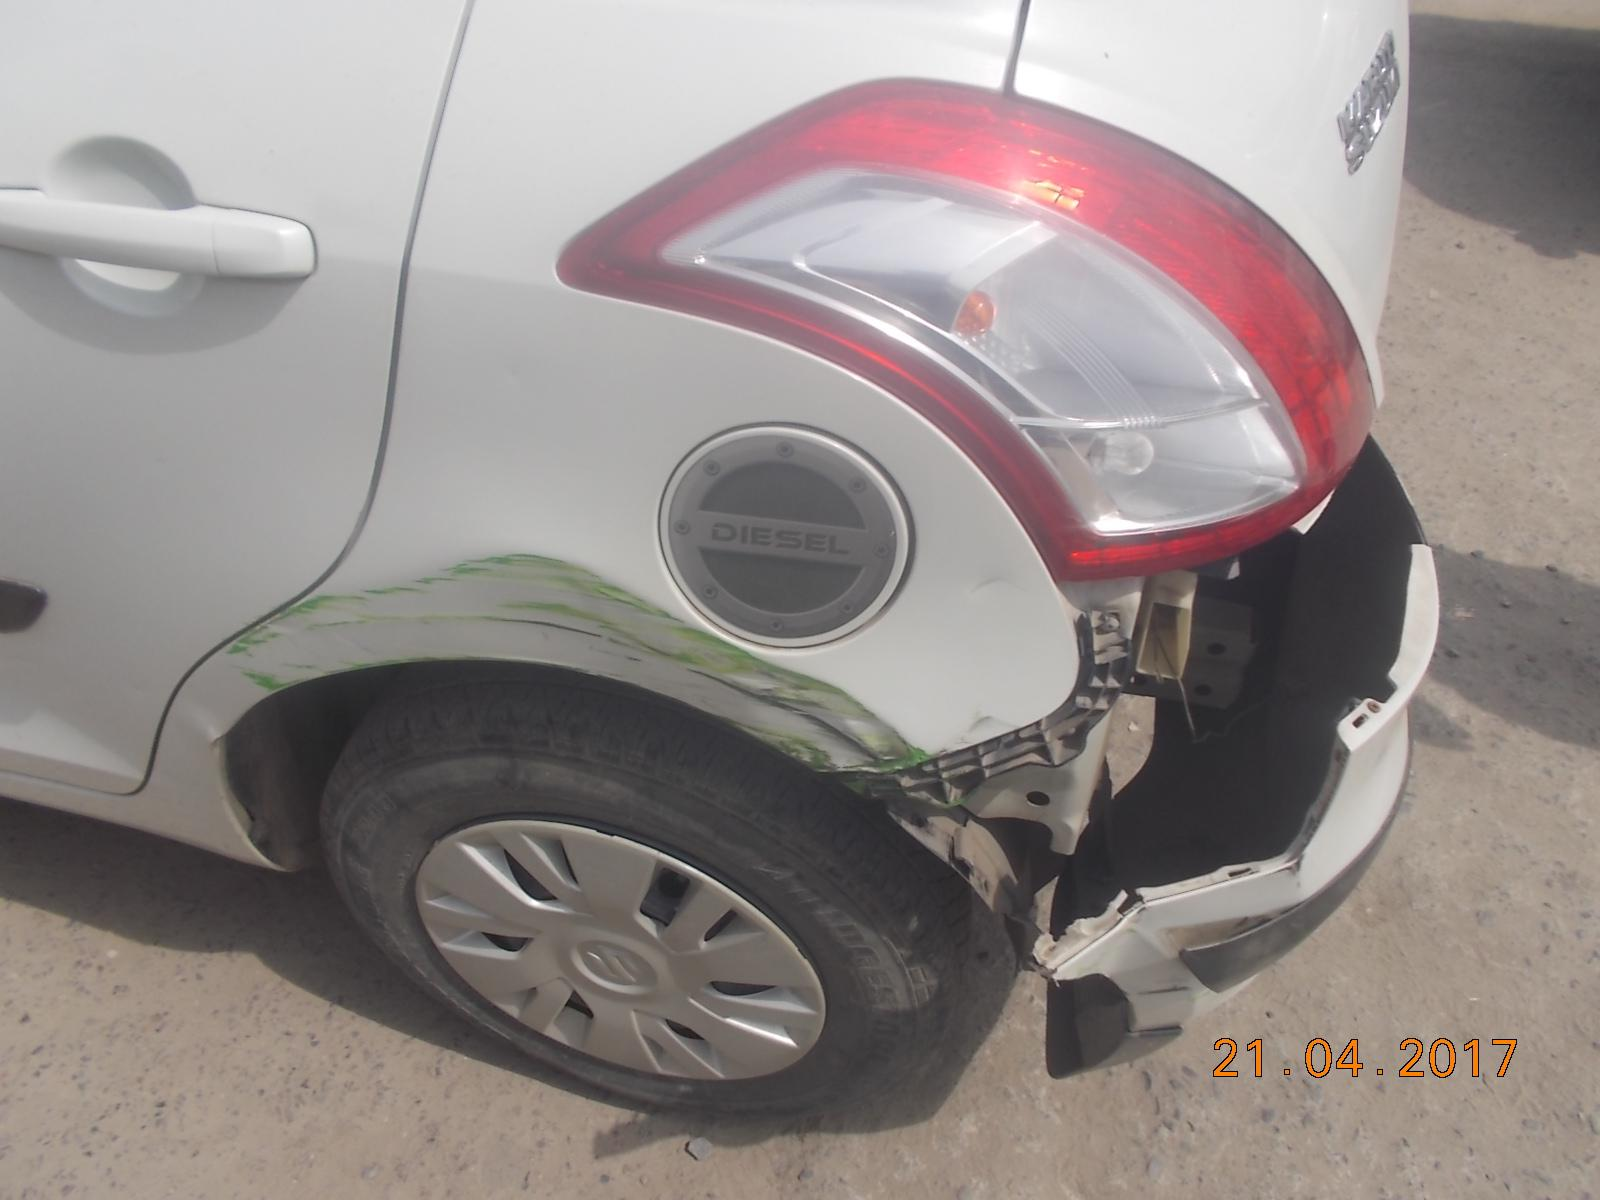quaterpanel-dent: (307, 338, 889, 1136)
rear-bumper-dent: (913, 476, 1558, 1058)
